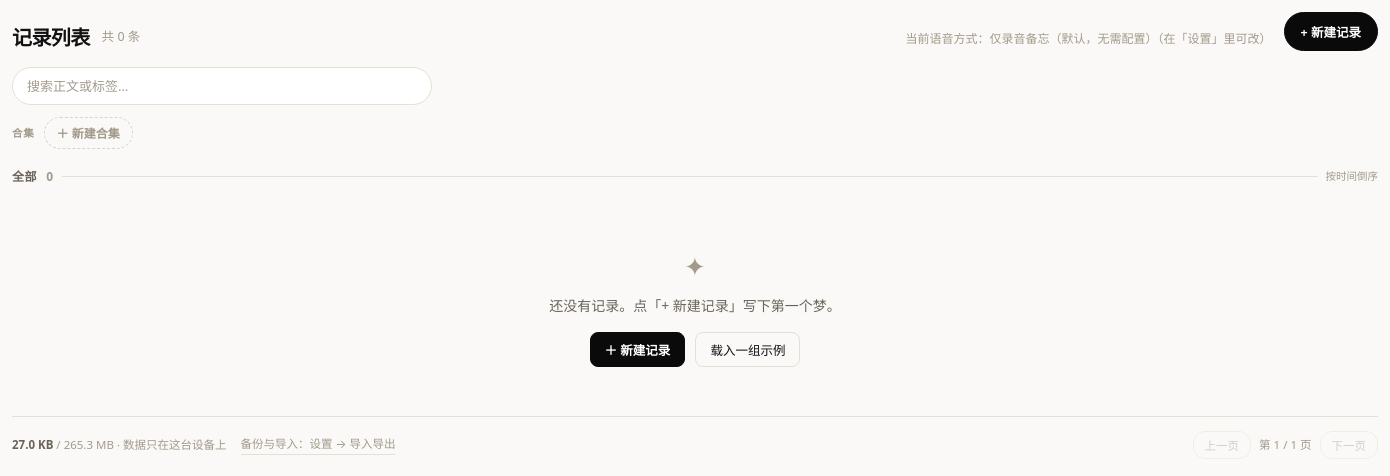
Scenario: P5 示例卡片（空库 → 载入一组示例） › 空库首页给「载入一组示例」；点一下变 3 条，成品带来源、能看见主次
What coordinates should you click on to do the following:
click the button "载入一组示例"
I would click on:
 (748, 349)
Its box is [695,332,800,367].
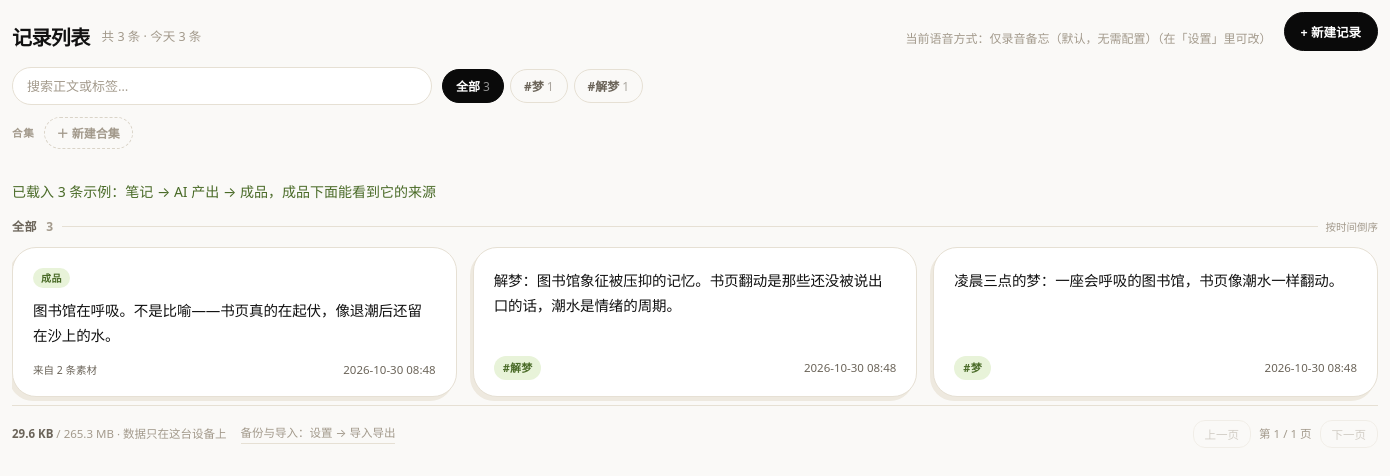
Now the text "成品" is shown, box [33,268,70,288]
Now the text "来自 2 条素材" is shown, box [33,362,97,379]
Now the text "会呼吸的图书馆" is shown, box [954,270,1343,290]
